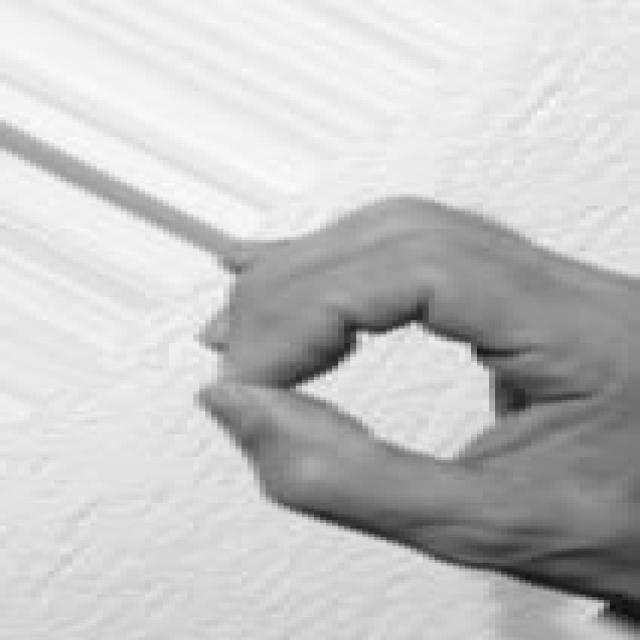O: (181, 188, 640, 606)
